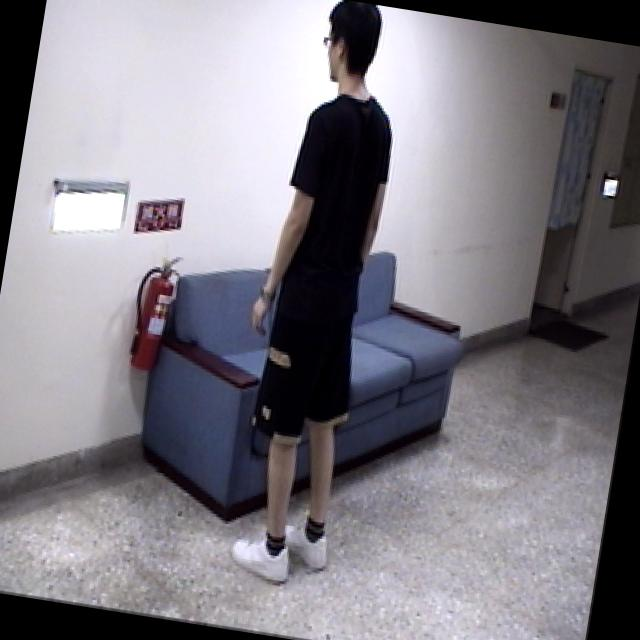stand: (207, 0, 437, 611)
